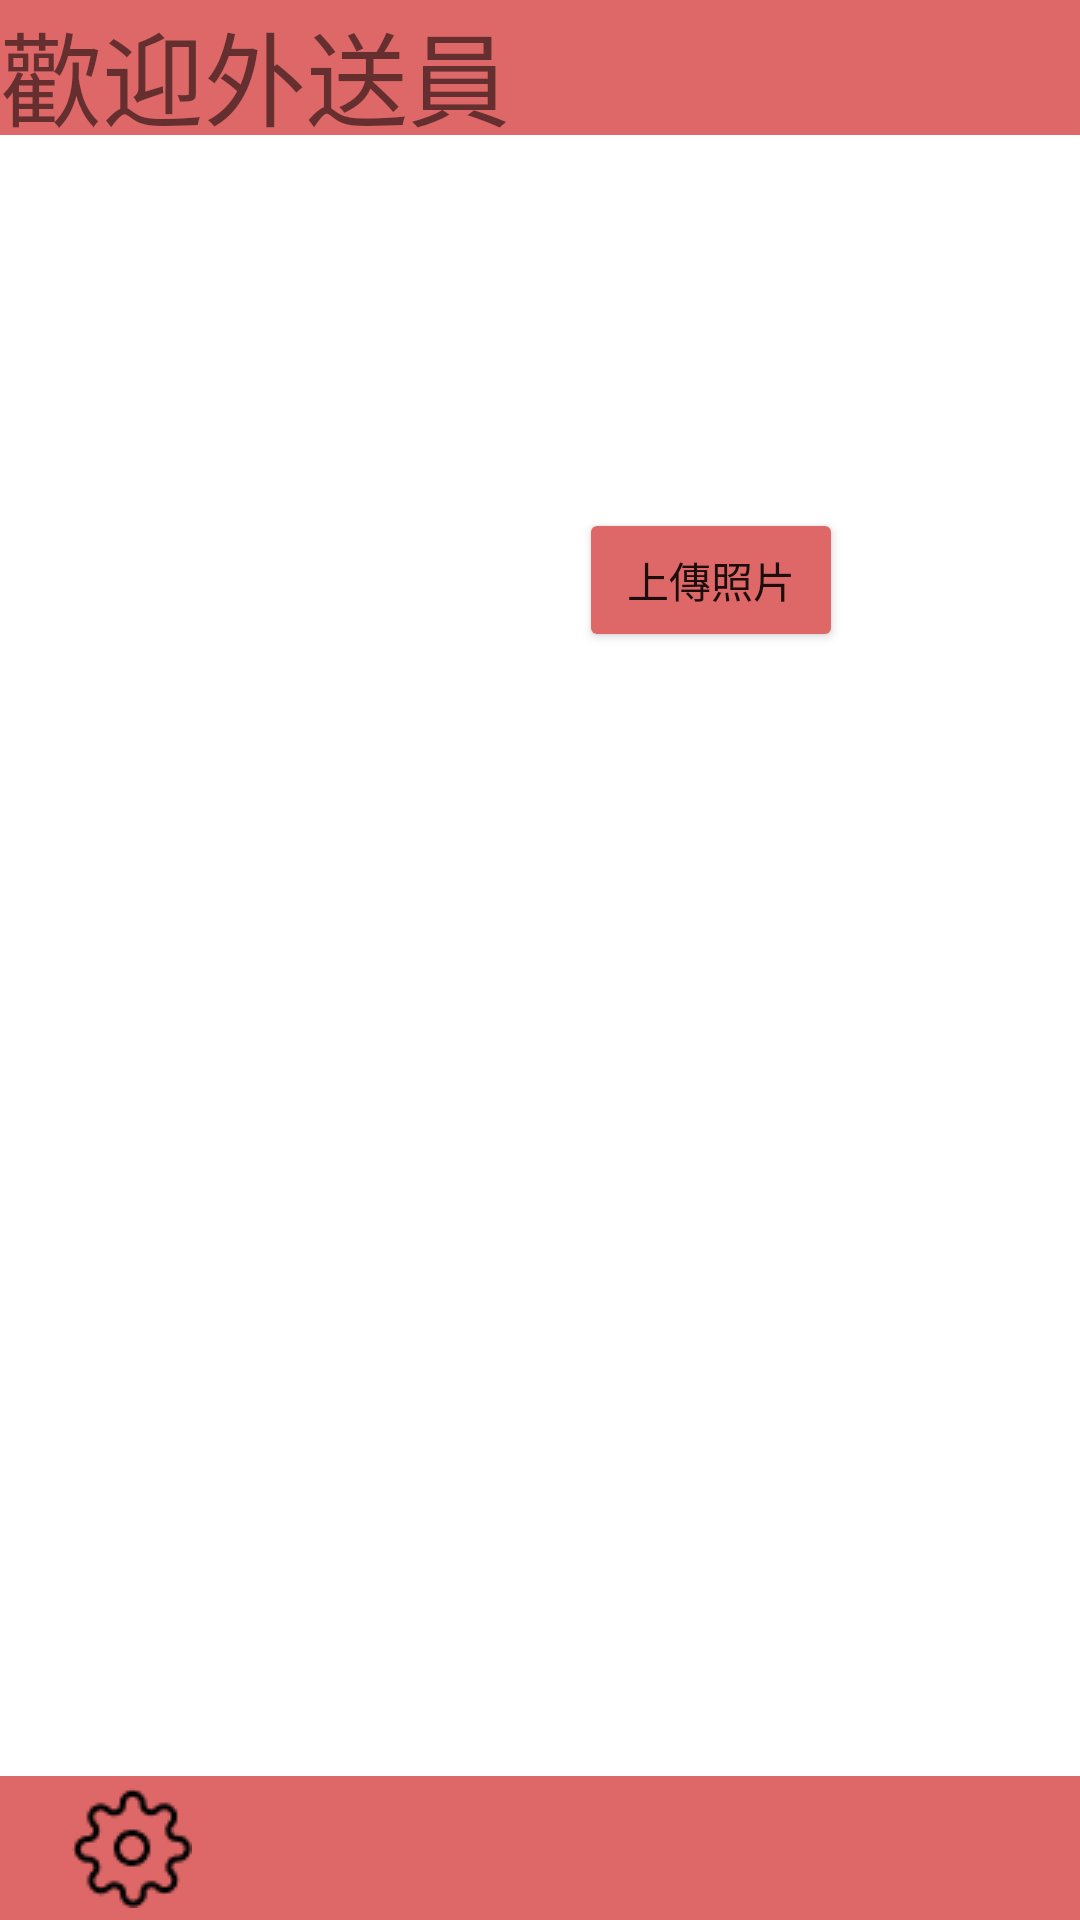

Icon click points for this 1080w x 1920h phone screenshot, format (x=x, y=y):
settings: (x=132, y=1849)
